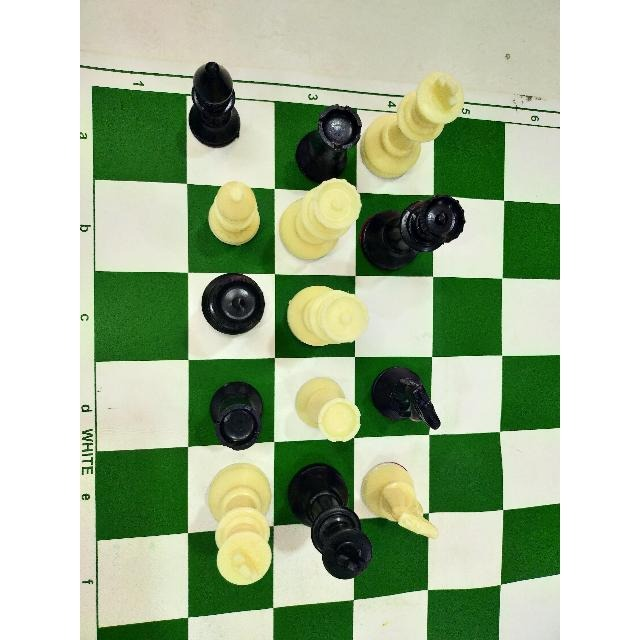black-bishop: (176, 60, 243, 150)
black-king: (289, 462, 379, 589)
black-knight: (370, 364, 442, 439)
black-queen: (366, 190, 467, 276), (193, 270, 267, 344)
black-rook: (293, 101, 365, 185), (203, 381, 277, 457)
white-bishop: (195, 178, 261, 250)
white-king: (360, 65, 467, 185), (199, 458, 285, 586)
white-knight: (361, 461, 443, 541)
white-queen: (279, 174, 360, 260), (278, 280, 367, 355)
white-rook: (293, 370, 363, 445)
